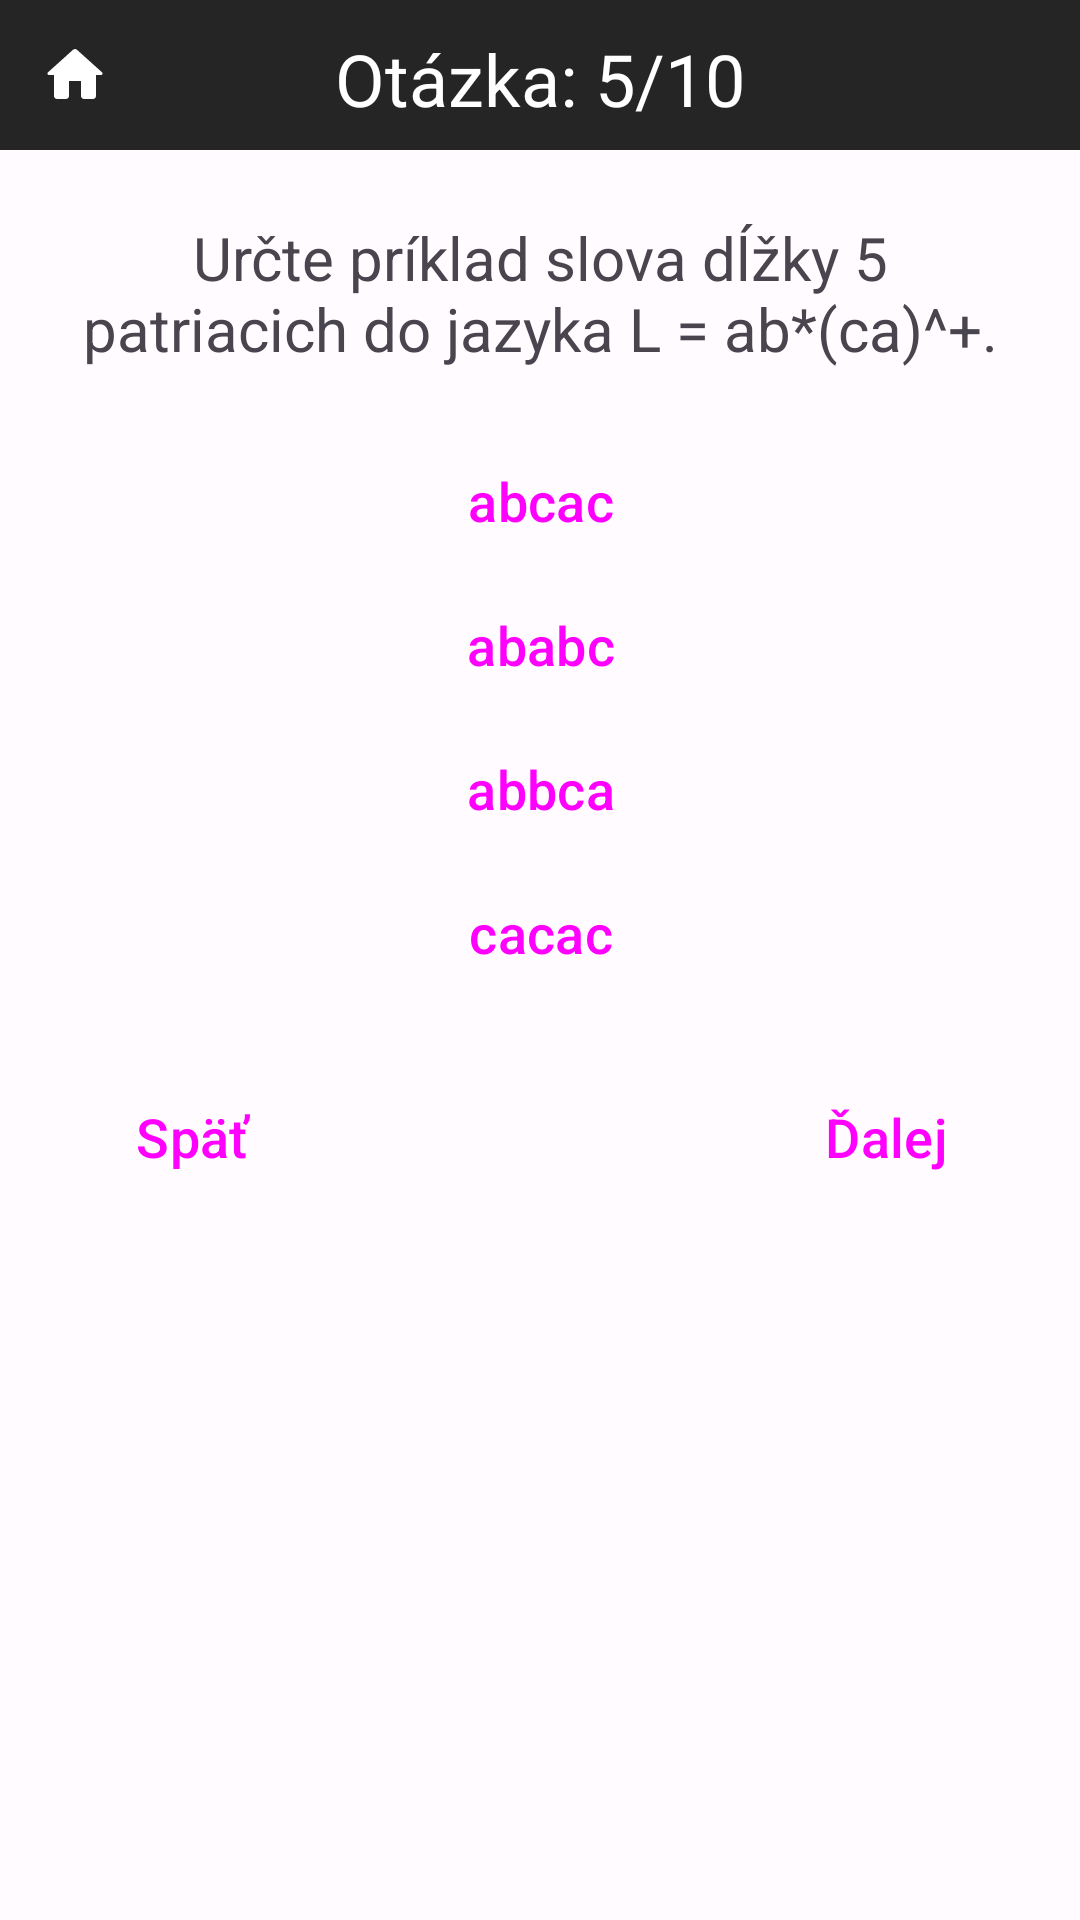

Icons on this 1080w x 1920h Android screen, each with its box as region(x1, y1, x2, y2):
domov: region(47, 49, 103, 99)
